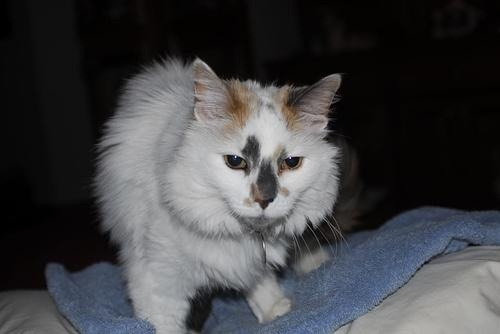cat: (92, 57, 364, 334)
